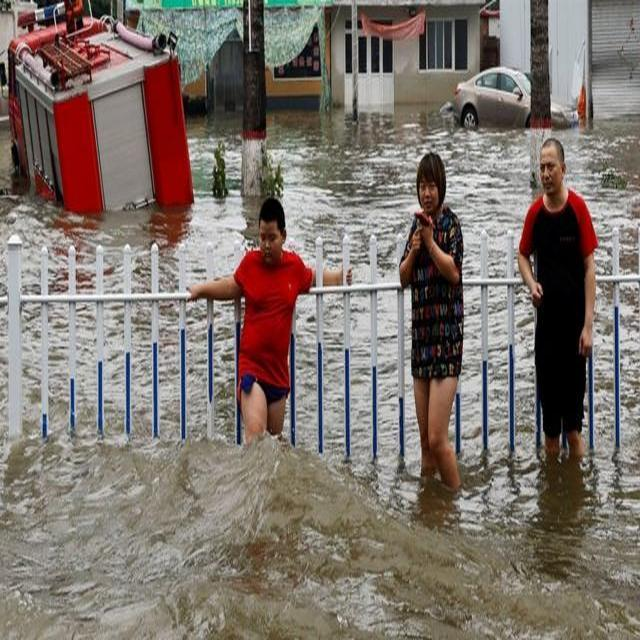Person-RiskLevel2: (184, 195, 354, 450), (515, 131, 600, 465), (402, 145, 475, 499)
